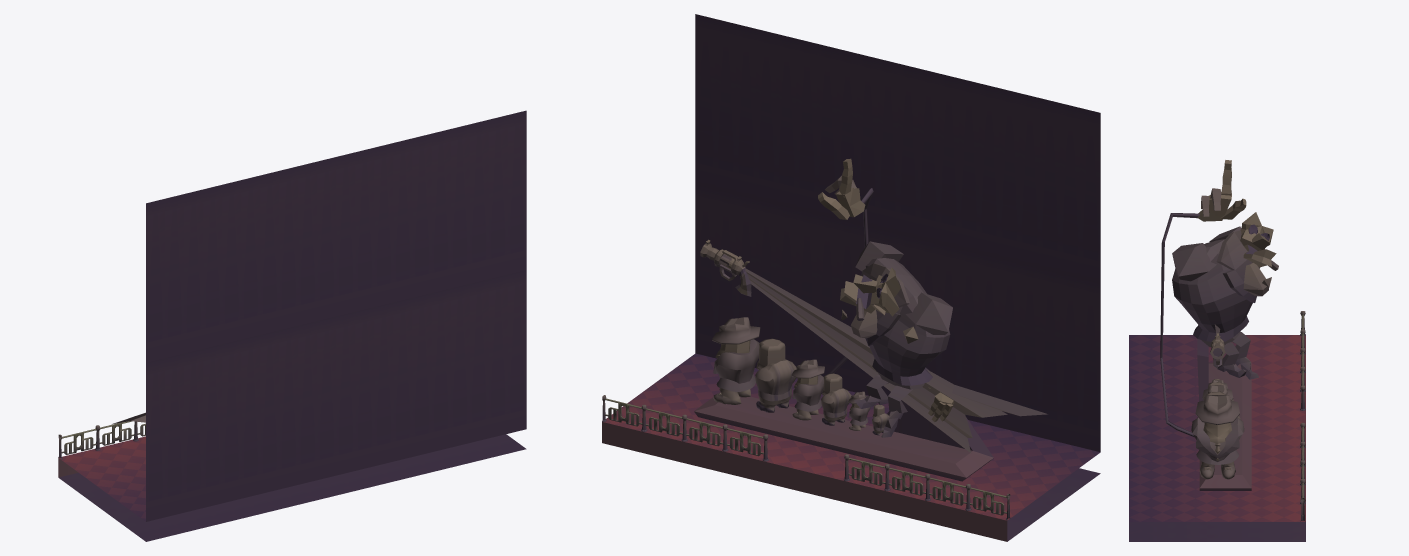
Rendered from SM_ArtRoom-A.fbx.
3 views of the same model, side by side, from view 1: azimuth 30°, elevation 25°; view 2: azimuth 150°, elevation 25°; view 3: azimuth 270°, elevation 25° (orthographic). The views are drawn at different scales.
Parts seen in each view (by area): view 1: SM_BackgroundPlane.026; view 2: SM_BackgroundPlane.026; view 3: SM_BackgroundPlane.026.
Boxes of the visible parts, box(x1,y1,x2,y2) form: SM_BackgroundPlane.026: box(58, 110, 526, 541); SM_BackgroundPlane.026: box(602, 14, 1100, 541); SM_BackgroundPlane.026: box(1129, 160, 1305, 541).
Bounding box in the file's own units: 2000 × 1201 × 1700.
